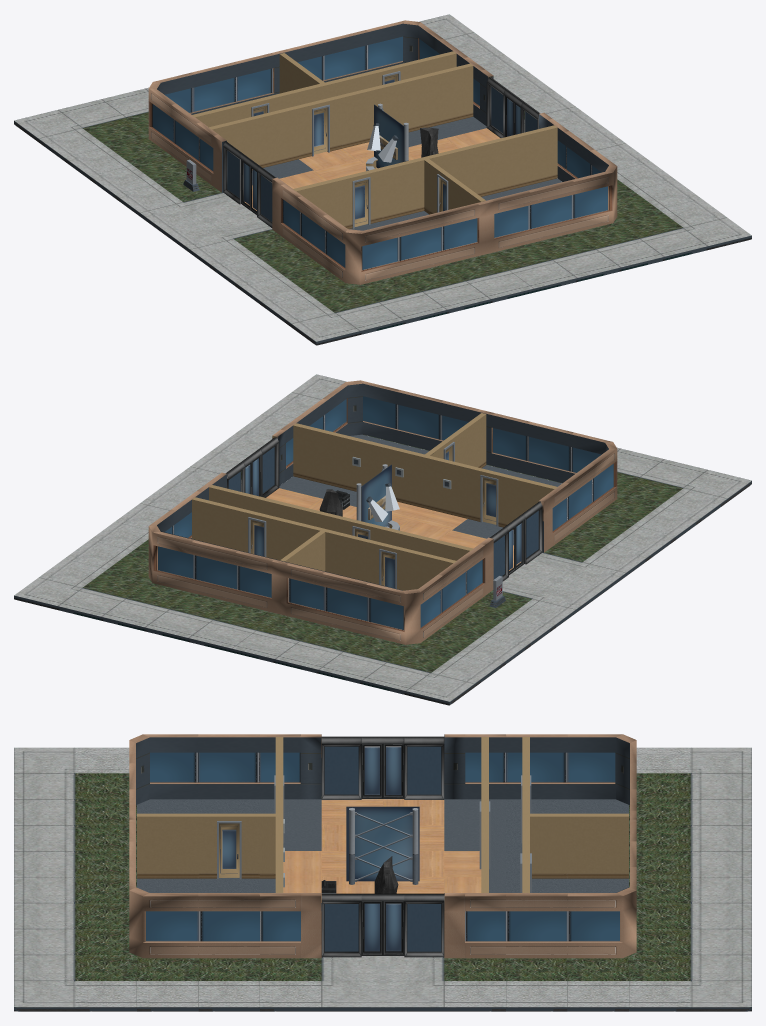
File: office5_test.fbx
3 views of the same model, one above another, from view 1: azimuth 30°, elevation 25°; view 2: azimuth 150°, elevation 25°; view 3: azimuth 270°, elevation 25° (orthographic). The views are drawn at different scales.
Visible parts, largest first — view 1: outside, insidewall, windows_PASS1, floor, windows_PASS1.001, objects, outside.002, doorframes; view 2: outside, insidewall, windows_PASS1, floor, objects, outside.002, doorframes, windows_PASS1.001; view 3: outside, windows_PASS1, floor, insidewall, objects, doorframes, outside.002, windows_PASS1.001, sdoorglass2_DS_PASS1, sdoorglass1_DS_PASS1, sdoorglass3_DS_PASS1, sdoorglass4_DS_PASS1 (+6 smaller).
Boxes of the visible parts, <box> form: outside: <box>14,14,751,345</box>; insidewall: <box>192,51,557,228</box>; windows_PASS1: <box>152,36,607,269</box>; floor: <box>245,116,562,230</box>; windows_PASS1.001: <box>157,24,488,125</box>; objects: <box>226,77,538,222</box>; outside.002: <box>148,38,613,272</box>; doorframes: <box>251,71,448,228</box>; outside: <box>14,374,751,705</box>; insidewall: <box>192,413,557,590</box>; windows_PASS1: <box>158,396,613,629</box>; floor: <box>266,434,561,570</box>; objects: <box>227,437,539,576</box>; outside.002: <box>152,398,617,632</box>; doorframes: <box>248,442,498,588</box>; windows_PASS1.001: <box>157,474,408,590</box>; outside: <box>14,734,751,1011</box>; windows_PASS1: <box>146,746,619,951</box>; floor: <box>137,799,628,910</box>; insidewall: <box>137,737,628,892</box>; objects: <box>321,737,444,894</box>; doorframes: <box>217,775,531,892</box>; outside.002: <box>143,782,622,942</box>; windows_PASS1.001: <box>444,737,628,893</box>; sdoorglass2_DS_PASS1: <box>386,903,401,951</box>; sdoorglass1_DS_PASS1: <box>364,903,379,951</box>; sdoorglass3_DS_PASS1: <box>386,747,401,794</box>; sdoorglass4_DS_PASS1: <box>364,747,379,794</box>.
Size of the model in its own units: 2739 by 389 by 3293.
2 materials, 2 textured.
